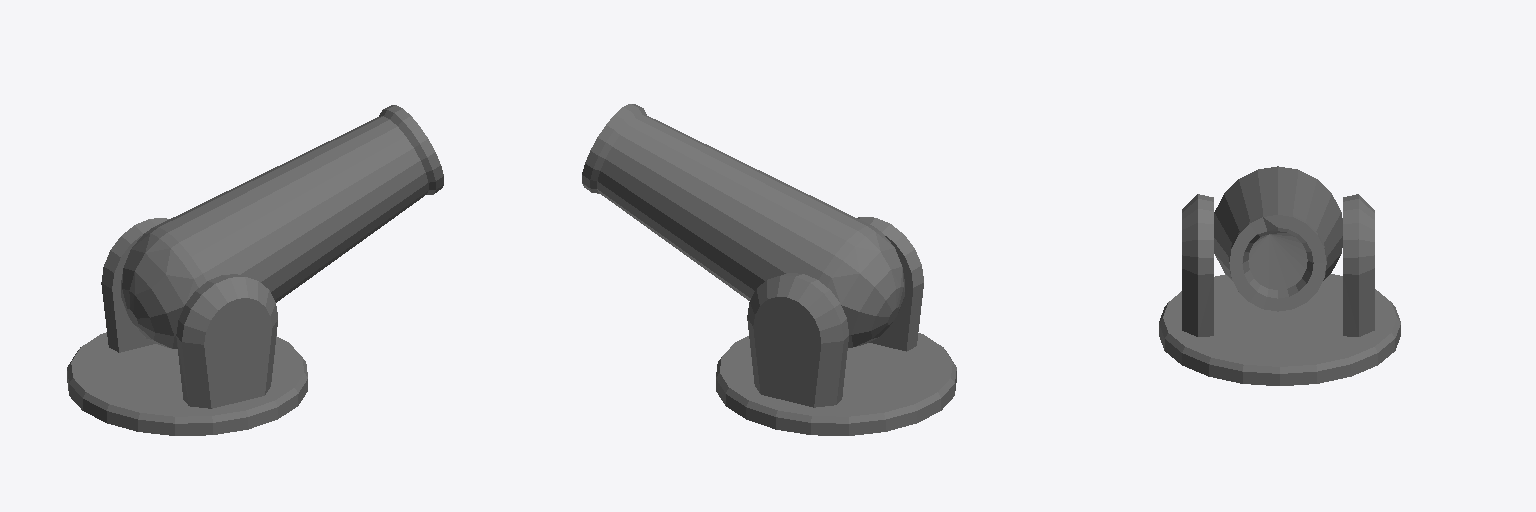
The model's file is scaledCannon.obj.
3 views of the same model, side by side, from view 1: azimuth 30°, elevation 25°; view 2: azimuth 150°, elevation 25°; view 3: azimuth 270°, elevation 25° (orthographic).
Parts seen in each view (by area): view 1: polySurface8; view 2: polySurface8; view 3: polySurface8.
Part boxes in pixels (x1,y1,x2,y2): polySurface8: (67,105,443,435); polySurface8: (582,104,956,435); polySurface8: (1159,166,1400,385).
Bounding box in the file's own units: 7.68 × 4.76 × 4.65.